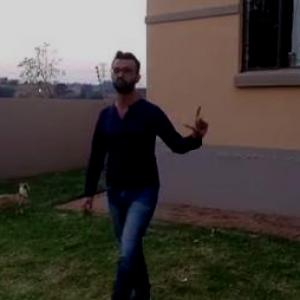land_hand: (178, 100, 214, 142)
